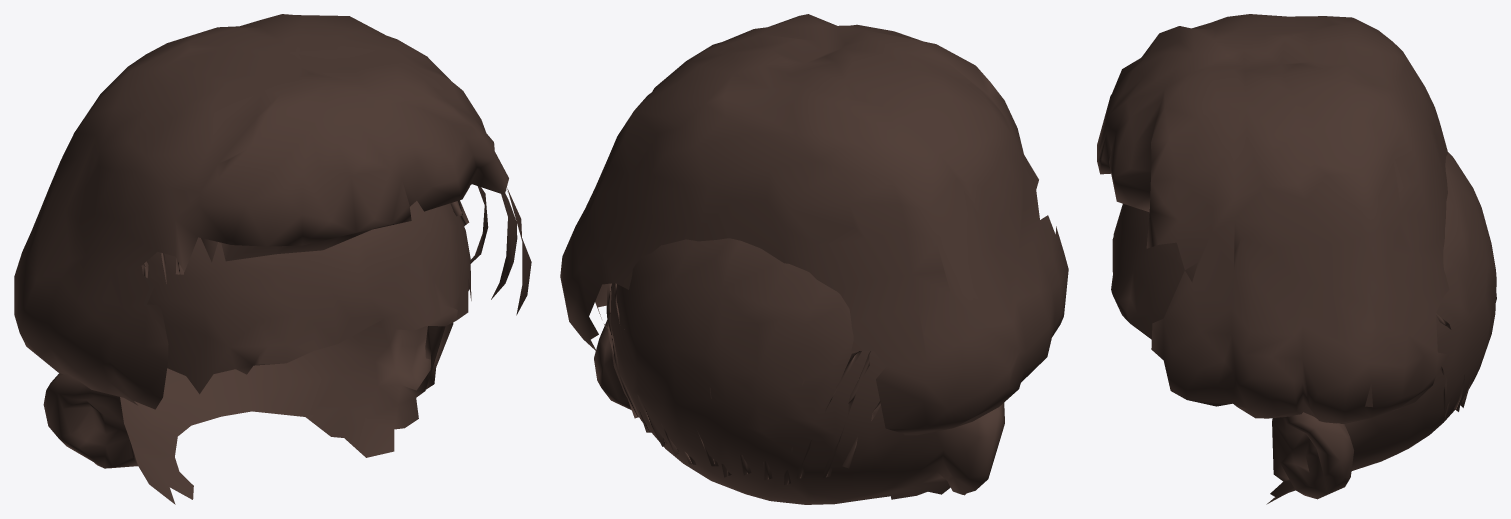
The model's file is blunt-bob.glb.
3 renders of one model, left to right at view 1: azimuth 30°, elevation 25°; view 2: azimuth 150°, elevation 25°; view 3: azimuth 270°, elevation 25°, orthographic. The views are drawn at different scales.
Parts seen in each view (by area): view 1: Hair, HairScalp; view 2: Hair, HairScalp, HairPulledRootStrands; view 3: Hair, HairScalp.
Part boxes in pixels (box(x1,y1,x2,y2)): Hair: box(14, 14, 531, 409); HairScalp: box(43, 201, 471, 504); Hair: box(560, 14, 1068, 435); HairScalp: box(594, 238, 1004, 504); HairPulledRootStrands: box(606, 283, 880, 484); Hair: box(1097, 14, 1449, 423); HairScalp: box(1111, 152, 1496, 504).
Size of the model in its own units: 0.5714 by 0.5152 by 0.4524.
